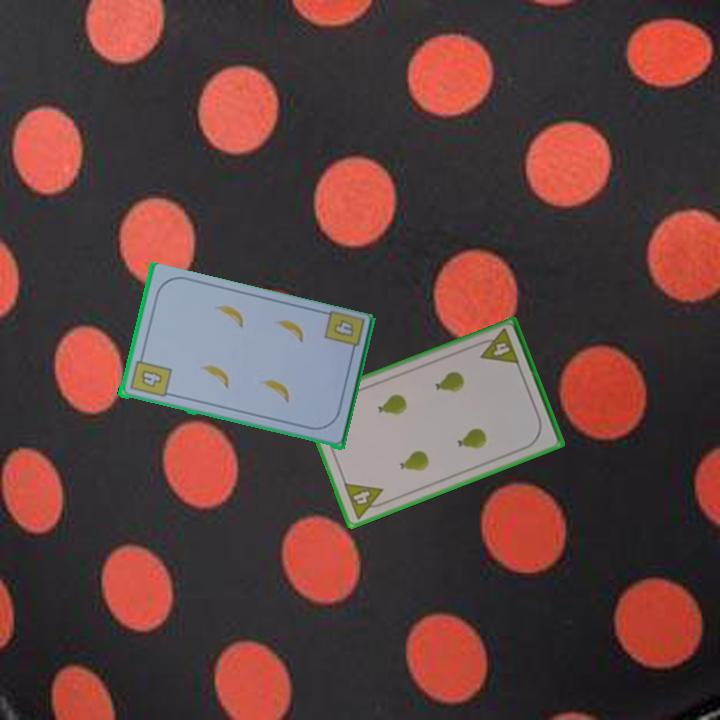4b: (320, 309, 367, 360), (126, 352, 173, 401)
4p: (340, 479, 390, 522), (473, 325, 522, 368)
